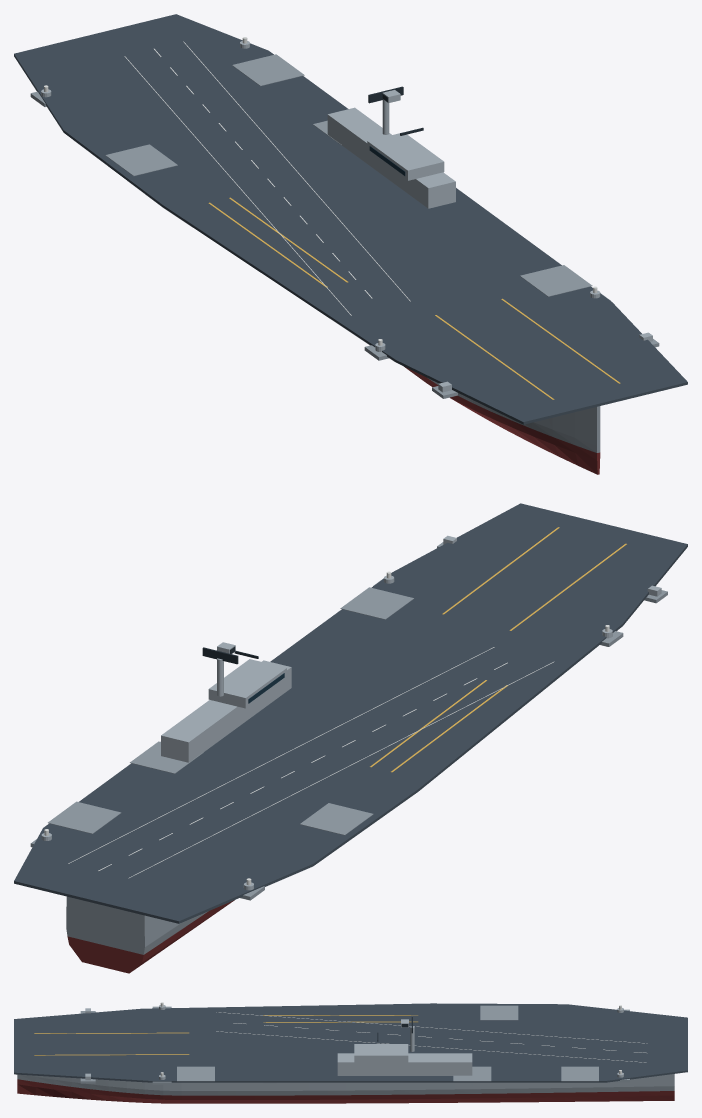
File: ran_cvn_commonwealth_1993.obj
The picture shows the model from 3 angles, top to bottom: view 1: azimuth 30°, elevation 25°; view 2: azimuth 150°, elevation 25°; view 3: azimuth 270°, elevation 25°; orthographic projection. The views are drawn at different scales.
Parts seen in each view (by area): view 1: FlightDeck, Island, UnderwaterHull, Hull, Bridge, Elevator_4, Elevator_1, Elevator_3; view 2: FlightDeck, Hull, Island, UnderwaterHull, Bridge, Elevator_1, Elevator_3, Elevator_4, Elevator_2; view 3: FlightDeck, Hull, UnderwaterHull, Island, Bridge, Elevator_4, Elevator_1, Elevator_3, Elevator_2, LandingEdge_-1, LandingEdge_1, Catapult_1 (+2 smaller).
Boxes of the visible parts, x1,y1,x2,y2 form: FlightDeck: (14, 14, 687, 424); Island: (327, 107, 455, 208); UnderwaterHull: (404, 366, 600, 474); Hull: (428, 378, 600, 452); Bridge: (367, 133, 444, 180); Elevator_4: (105, 144, 177, 175); Elevator_1: (520, 265, 592, 296); Elevator_3: (232, 54, 304, 85); FlightDeck: (14, 503, 687, 923); Hull: (66, 896, 208, 954); Island: (161, 660, 291, 762); UnderwaterHull: (67, 900, 234, 973); Bridge: (208, 659, 286, 708); Elevator_1: (340, 587, 413, 619); Elevator_3: (48, 801, 121, 833); Elevator_4: (300, 803, 373, 835); Elevator_2: (130, 741, 203, 773); FlightDeck: (14, 1003, 687, 1082); Hull: (17, 1074, 674, 1095); UnderwaterHull: (17, 1079, 674, 1103); Island: (337, 1053, 472, 1075); Bridge: (354, 1044, 408, 1062); Elevator_4: (480, 1005, 518, 1020); Elevator_1: (177, 1066, 214, 1081); Elevator_3: (561, 1066, 598, 1081); Elevator_2: (453, 1066, 491, 1081); LandingEdge_-1: (216, 1012, 647, 1043); LandingEdge_1: (216, 1031, 646, 1062); Catapult_1: (34, 1054, 189, 1055).
Size of the model in its own units: 97.43 by 58.2 by 356.
